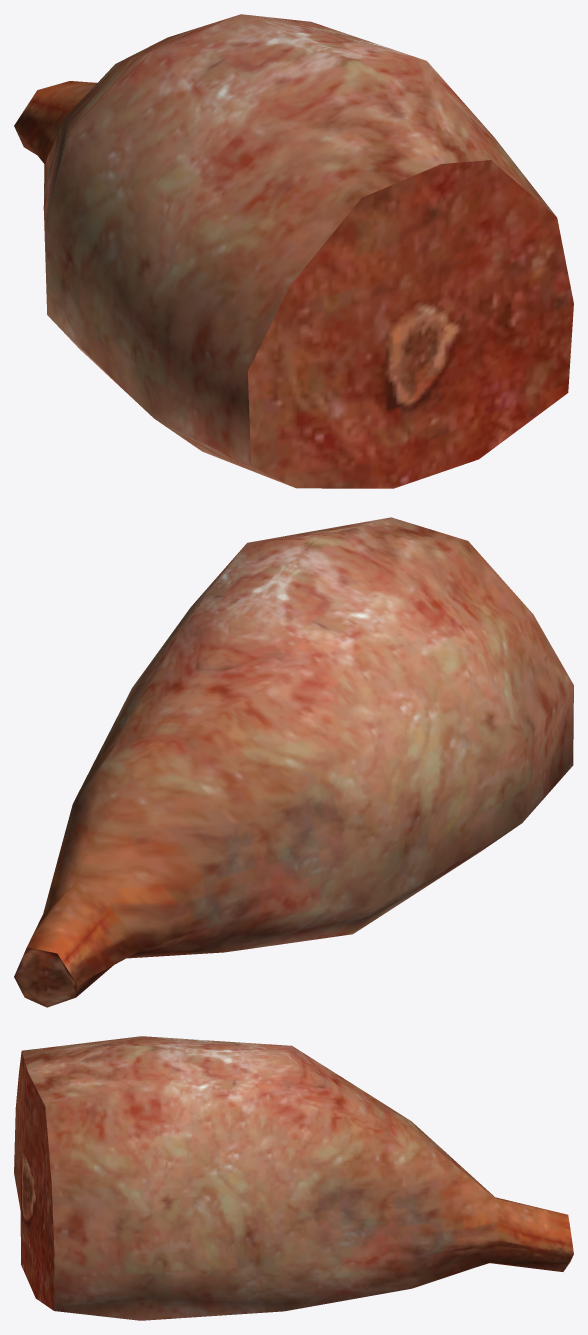
The model's file is edb_all_meat_s01_l0.fbx.
3 views of the same model, one above another, from view 1: azimuth 30°, elevation 25°; view 2: azimuth 150°, elevation 25°; view 3: azimuth 270°, elevation 25° (orthographic). The views are drawn at different scales.
Parts seen in each view (by area): view 1: mesh_node; view 2: mesh_node; view 3: mesh_node.
Boxes of the visible parts, x1=… form: mesh_node: x1=14, y1=14, x2=573, y2=488; mesh_node: x1=14, y1=517, x2=573, y2=1007; mesh_node: x1=14, y1=1036, x2=573, y2=1320.
Size of the model in its own units: 0.4623 by 0.3966 by 0.8223.
1 material, 1 textured.
